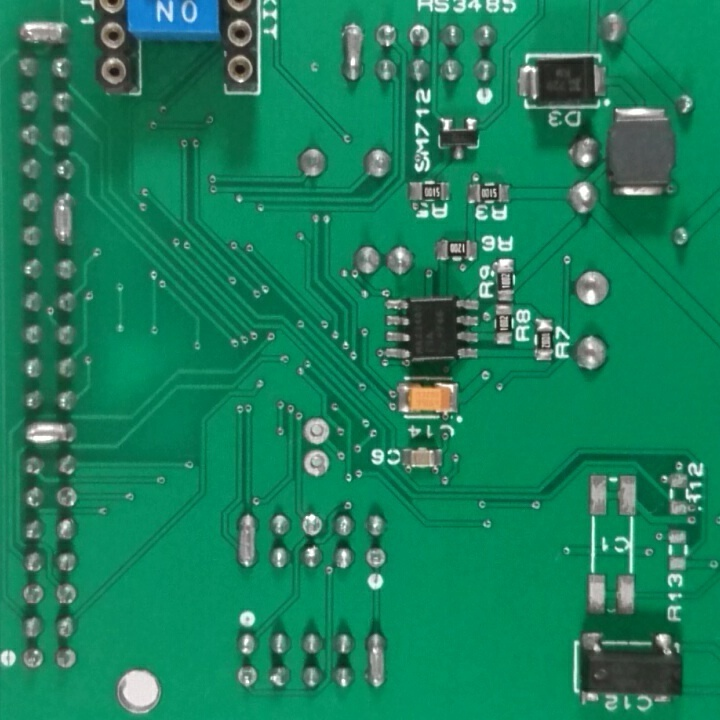F: (303, 449, 334, 483), (18, 644, 47, 678), (303, 413, 331, 448), (52, 484, 82, 515), (405, 20, 433, 52), (233, 664, 262, 692), (19, 581, 47, 609), (362, 545, 391, 572), (299, 512, 325, 540)
P: (227, 509, 263, 574), (362, 626, 391, 693), (339, 18, 367, 87), (50, 189, 79, 251), (19, 418, 79, 447), (13, 20, 72, 49)
